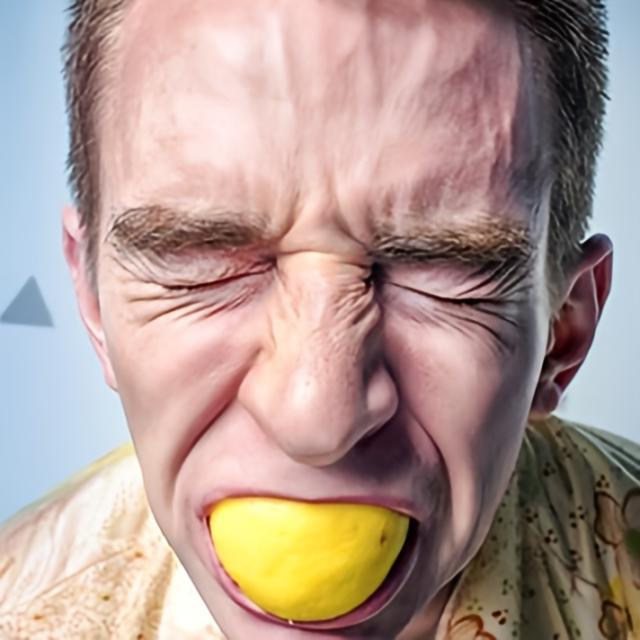disgust: (93, 0, 553, 640)
